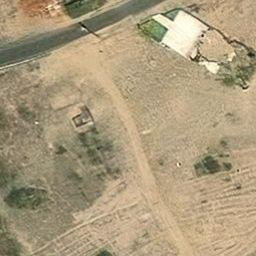manzanas: (130, 8, 252, 90)
